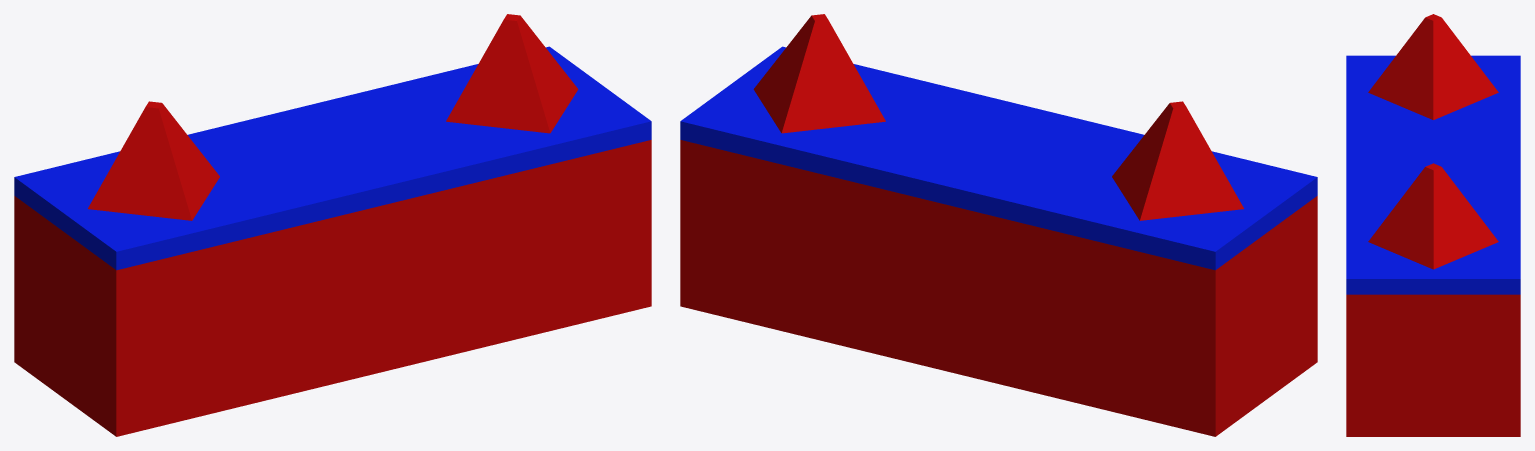
The model's file is cubes-bigCubeBlue.glb.
3 views of the same model, side by side, from view 1: azimuth 30°, elevation 25°; view 2: azimuth 150°, elevation 25°; view 3: azimuth 270°, elevation 25° (orthographic). The views are drawn at different scales.
Visible parts, largest first — view 1: bigCube; view 2: bigCube; view 3: bigCube.
Part boxes in pixels (x1,y1,x2,y2): bigCube: (14, 14, 651, 436); bigCube: (680, 14, 1317, 436); bigCube: (1346, 14, 1520, 436).
Bounding box in the file's own units: 0.121 × 0.059 × 0.04.
